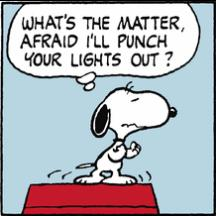snoopy: (72, 80, 178, 186)
